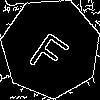F: (26, 23, 77, 78)
